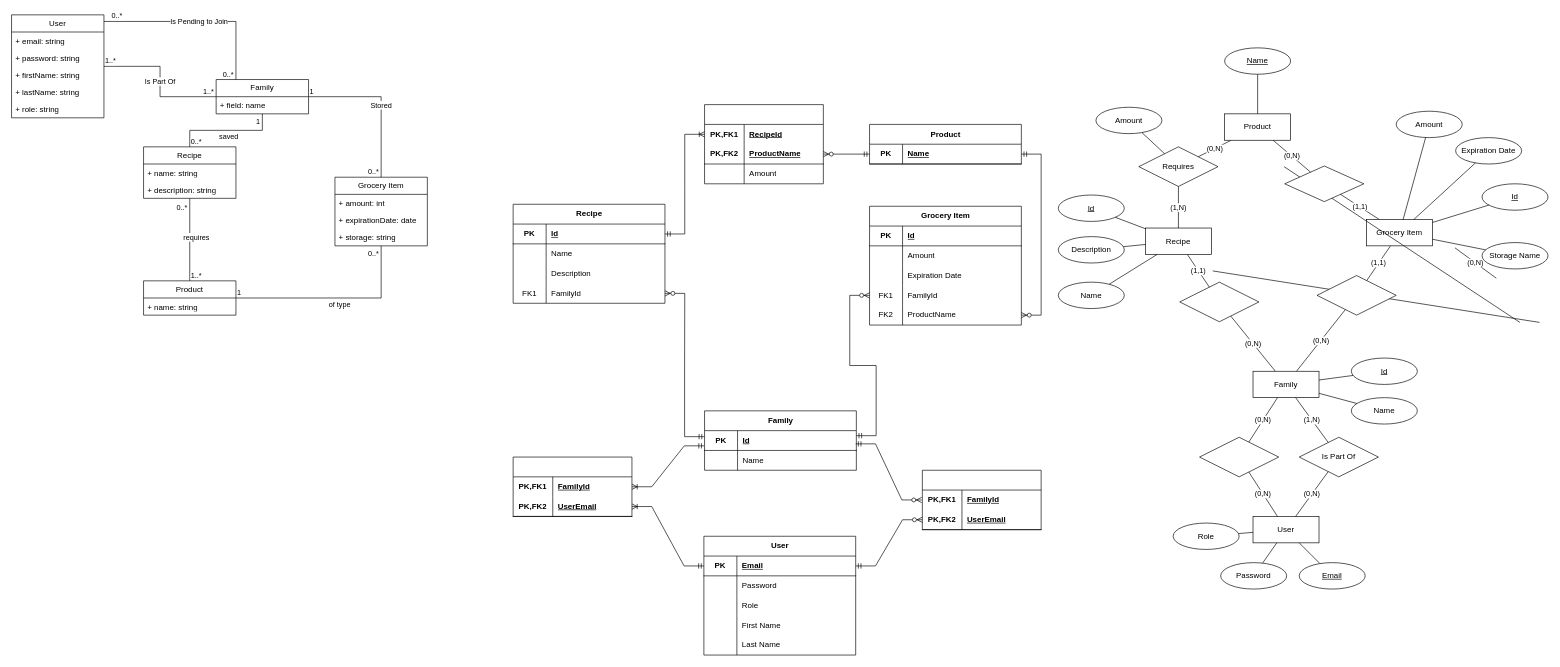
This 1560x667 diagram has some shape labels left out. Here are the shapes that lost their labels. From the top down, the box of each, then its label:
(704, 104, 823, 184): Recipe Requires Product
(1284, 165, 1364, 202): Is Of Type
(1179, 281, 1259, 322): Saved recipe
(1316, 275, 1396, 315): Bought
(1199, 437, 1279, 477): Pending
(512, 456, 632, 516): User is part of Family
(922, 470, 1041, 530): User Pending to join Family
